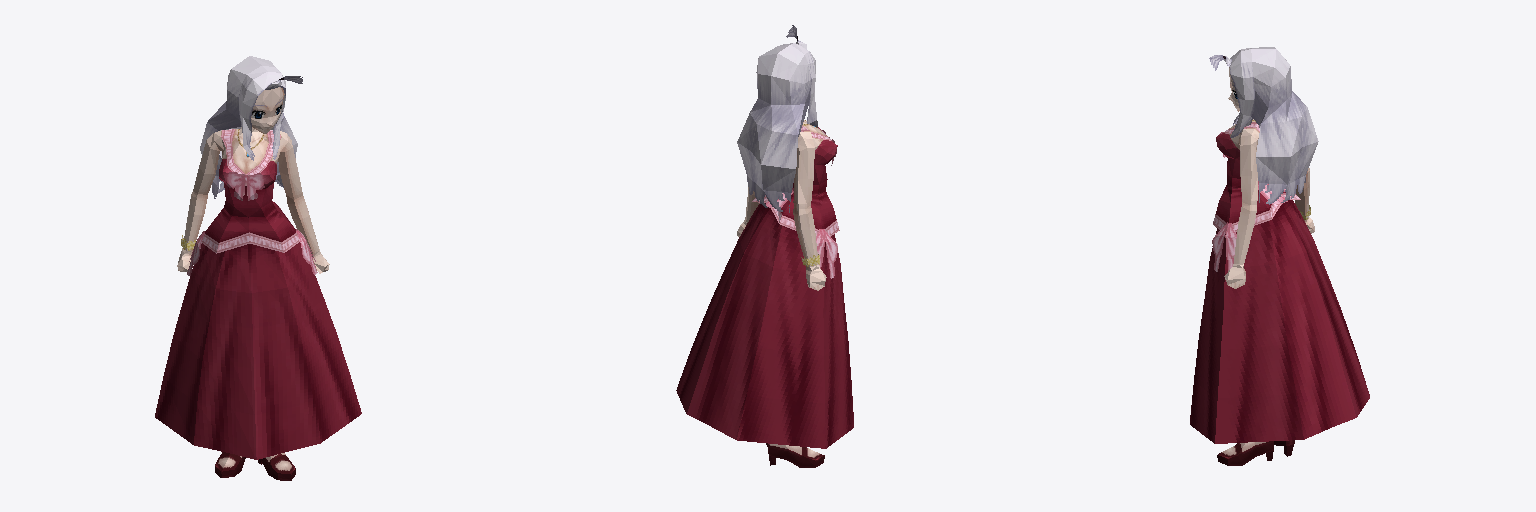
3 views of the same model, side by side, from view 1: azimuth 30°, elevation 25°; view 2: azimuth 150°, elevation 25°; view 3: azimuth 270°, elevation 25° (orthographic).
Parts seen in each view (by area): view 1: _001_foot_00__001_foot_00.009, _000_body_00__000_body_00.012, _004_head_00__004_head_00.009, _005_head_00__005_head_00.008; view 2: _001_foot_00__001_foot_00.009, _004_head_00__004_head_00.009, _000_body_00__000_body_00.012; view 3: _001_foot_00__001_foot_00.009, _004_head_00__004_head_00.009, _000_body_00__000_body_00.012.
Boxes of the visible parts, x1=… form: _001_foot_00__001_foot_00.009: x1=155, y1=242, x2=361, y2=480; _000_body_00__000_body_00.012: x1=181, y1=127, x2=318, y2=275; _004_head_00__004_head_00.009: x1=200, y1=56, x2=302, y2=198; _005_head_00__005_head_00.008: x1=251, y1=87, x2=284, y2=133; _001_foot_00__001_foot_00.009: x1=676, y1=203, x2=853, y2=467; _004_head_00__004_head_00.009: x1=737, y1=25, x2=817, y2=212; _000_body_00__000_body_00.012: x1=745, y1=120, x2=839, y2=278; _001_foot_00__001_foot_00.009: x1=1190, y1=200, x2=1369, y2=465; _004_head_00__004_head_00.009: x1=1209, y1=47, x2=1318, y2=204; _000_body_00__000_body_00.012: x1=1212, y1=119, x2=1310, y2=271.
Bounding box in the file's own units: 0.6464 × 1.58 × 0.6354.
Materials: 5 (5 with a texture image).